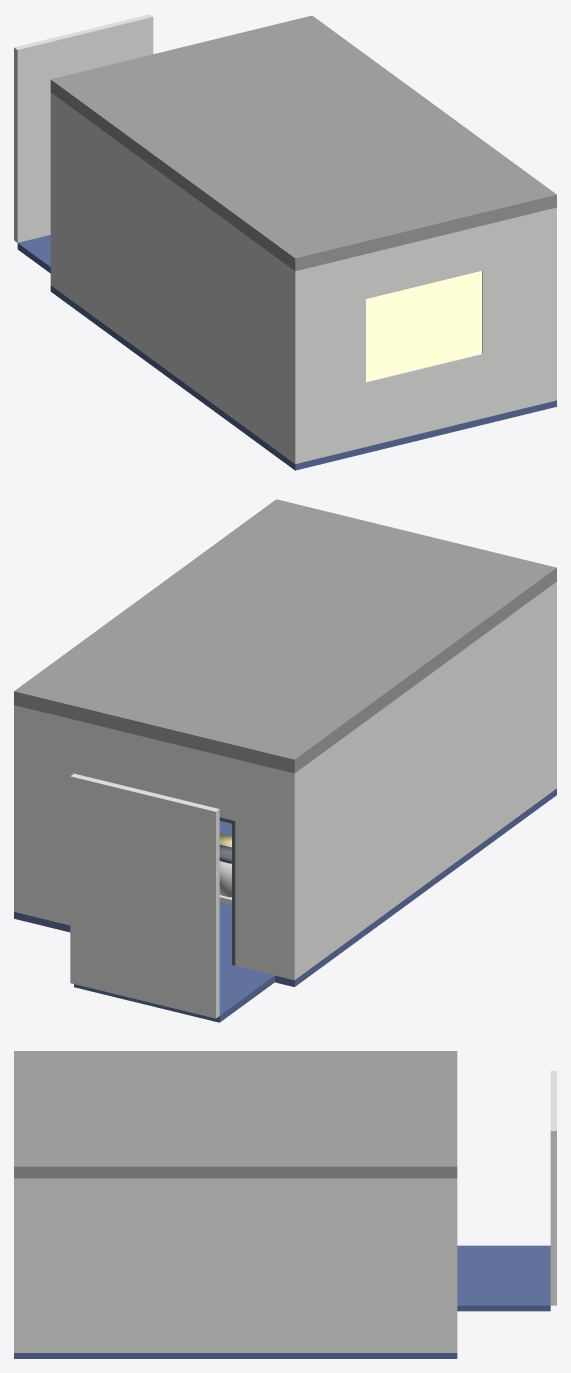
File: cam_raum.glb
The picture shows the model from 3 angles, top to bottom: view 1: azimuth 30°, elevation 25°; view 2: azimuth 150°, elevation 25°; view 3: azimuth 270°, elevation 25°; orthographic projection. The views are drawn at different scales.
Parts seen in each view (by area): view 1: Decke, Wand_West, Wand_Sued_rechts, Wand_Sued_links, Flur_Wand, Fenster_Scheibe, Wand_Sued_Bruestung, Wand_Sued_Sturz, Boden, Wand_Ost, Flur_Boden; view 2: Decke, Wand_West, Flur_Wand, Wand_Nord_rechts, Wand_Nord_links, Wand_Nord_Sturz, Boden, Flur_Boden, Wand_Ost; view 3: Wand_Ost, Decke, Flur_Boden, Boden, Flur_Wand.
Part boxes in pixels (<box>): Decke: <box>50,15,556,271</box>; Wand_West: <box>50,92,304,463</box>; Wand_Sued_rechts: <box>482,210,547,418</box>; Wand_Sued_links: <box>304,254,365,461</box>; Flur_Wand: <box>14,14,153,242</box>; Fenster_Scheibe: <box>366,271,481,381</box>; Wand_Sued_Bruestung: <box>366,353,482,446</box>; Wand_Sued_Sturz: <box>366,225,482,298</box>; Boden: <box>50,285,556,470</box>; Wand_Ost: <box>547,207,556,402</box>; Flur_Boden: <box>17,235,50,273</box>; Decke: <box>14,499,556,773</box>; Wand_West: <box>284,582,556,980</box>; Flur_Wand: <box>70,773,219,1018</box>; Wand_Nord_rechts: <box>24,707,168,925</box>; Wand_Nord_links: <box>235,759,284,977</box>; Wand_Nord_Sturz: <box>168,743,235,820</box>; Boden: <box>14,788,556,986</box>; Flur_Boden: <box>74,962,274,1022</box>; Wand_Ost: <box>14,705,23,914</box>; Wand_Ost: <box>14,1178,457,1352</box>; Decke: <box>14,1051,457,1178</box>; Flur_Boden: <box>457,1245,550,1311</box>; Boden: <box>14,1353,457,1358</box>; Flur_Wand: <box>550,1071,556,1305</box>.
Bounding box in the file's own units: 4.26 × 3.3 × 8.45.
